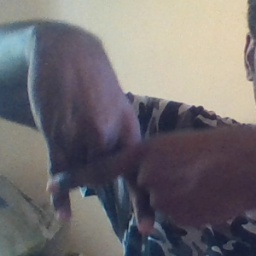H: (34, 116, 172, 235)
